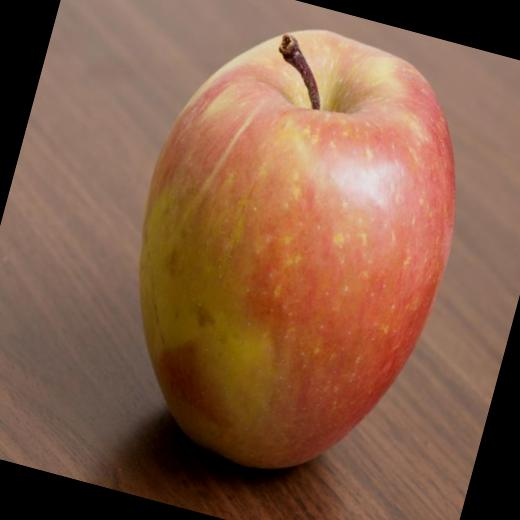Apple: (87, 0, 499, 503)
